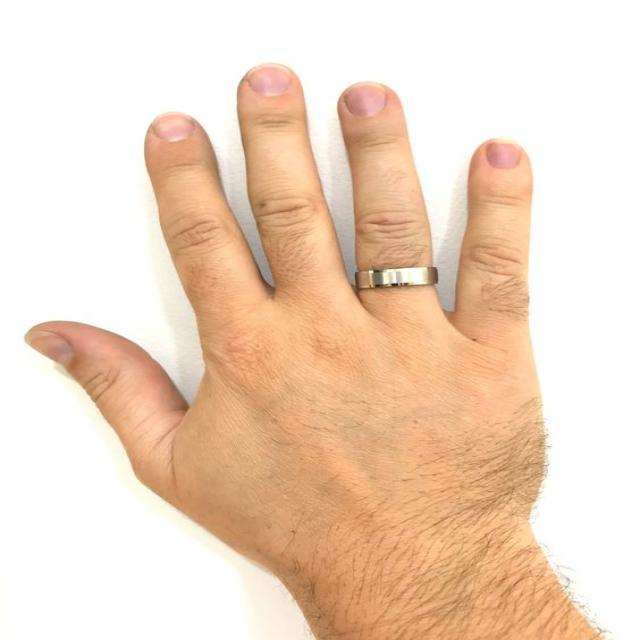Fingernail: (27, 331, 73, 371), (247, 64, 291, 97), (345, 82, 384, 117), (486, 138, 522, 172), (152, 113, 192, 140)
